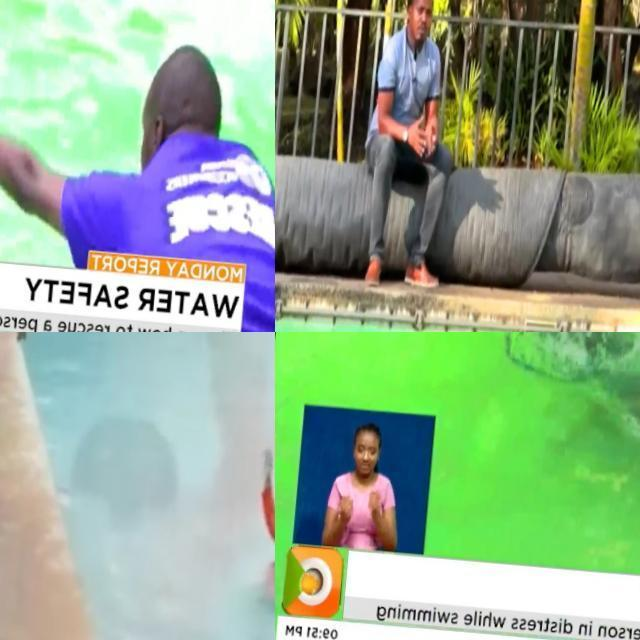3: (240, 498, 275, 632)
drowning: (0, 24, 275, 332), (333, 0, 463, 298)
